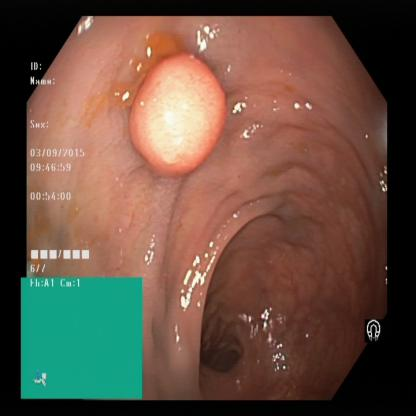Labels: (27, 60, 101, 276), (17, 275, 145, 399), (350, 307, 392, 350)
Polyps: (125, 50, 229, 172)
